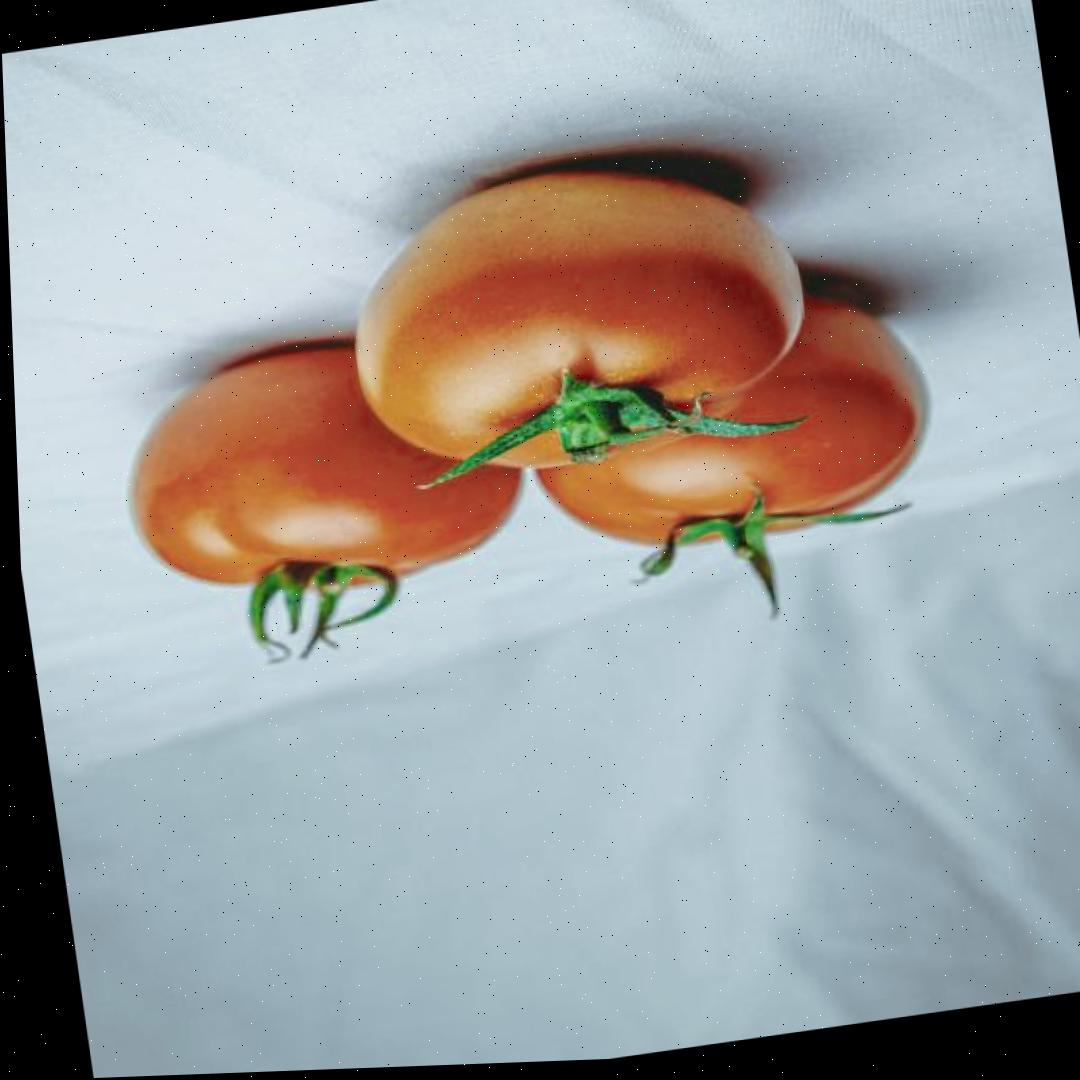matang: (327, 137, 826, 498), (509, 264, 948, 570), (108, 317, 544, 619)
